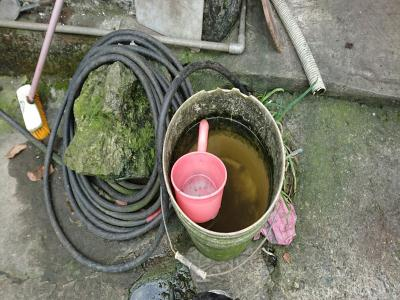bowl: (168, 148, 229, 225)
bucket: (160, 86, 289, 263)
